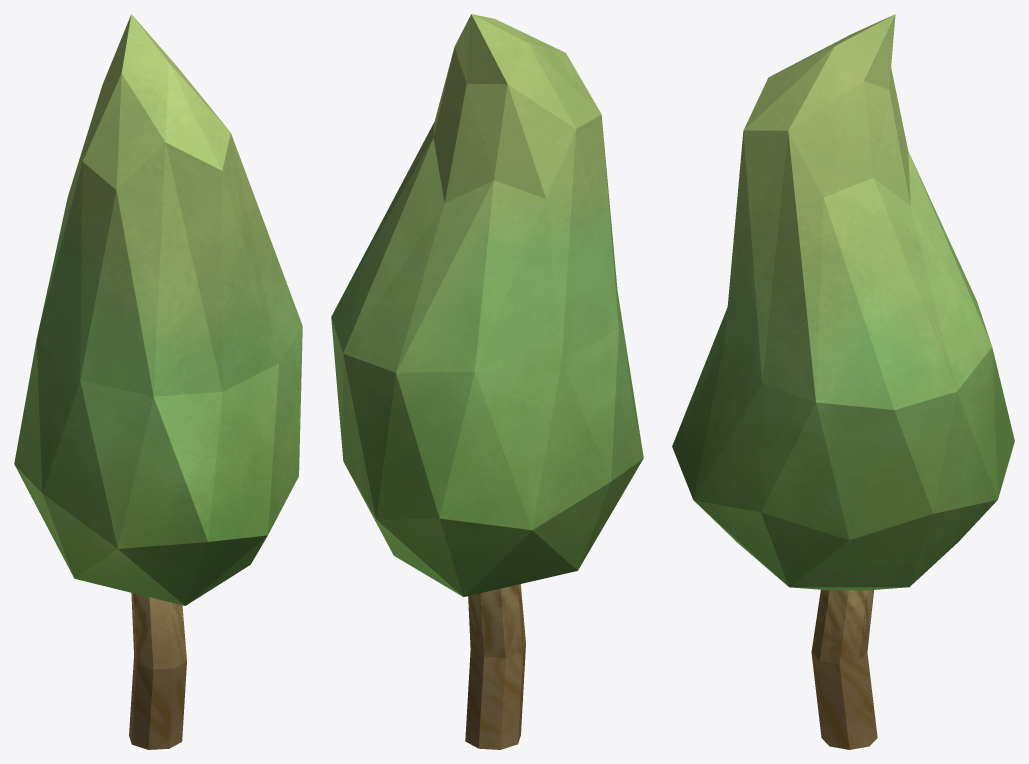
Rendered from Tree_1_1.fbx.
3 renders of one model, left to right at view 1: azimuth 30°, elevation 25°; view 2: azimuth 150°, elevation 25°; view 3: azimuth 270°, elevation 25°, orthographic. The views are drawn at different scales.
Visible parts, largest first — view 1: Tree 1; view 2: Tree 1; view 3: Tree 1.
Part boxes in pixels (x1,y1,x2,y2): Tree 1: (14, 14, 302, 749); Tree 1: (331, 14, 643, 749); Tree 1: (672, 14, 1014, 749).
Bounding box in the file's own units: 3.16 × 3.75 × 8.72.
2 materials, 2 textured.
